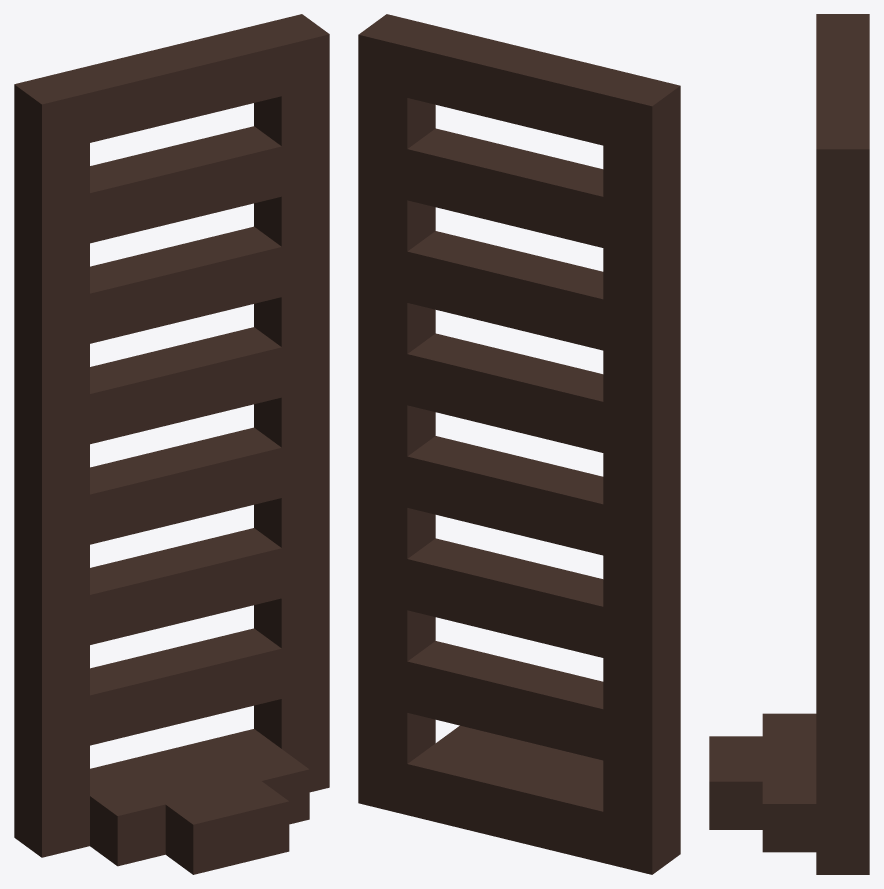
Rendered from SmallBuilding01-3.obj.
3 views of the same model, side by side, from view 1: azimuth 30°, elevation 25°; view 2: azimuth 150°, elevation 25°; view 3: azimuth 270°, elevation 25° (orthographic). The views are drawn at different scales.
Size of the model in its own units: 0.6 by 1.5 by 0.3.
1 material, 1 textured.
